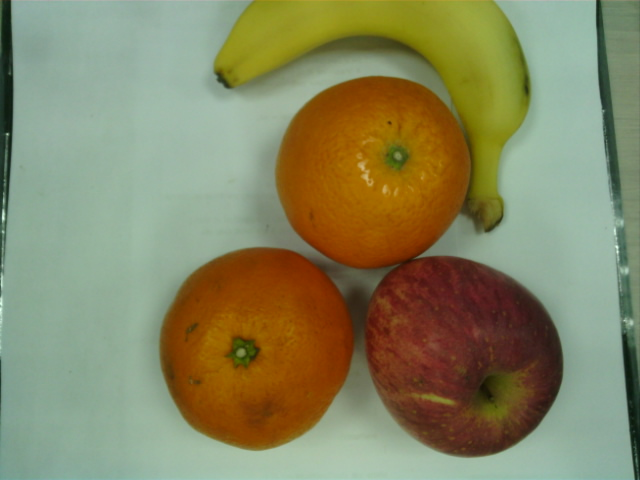normal_apple: (363, 255, 563, 458)
normal_banana: (214, 1, 532, 236)
normal_orange: (159, 246, 353, 451), (277, 76, 470, 267)
